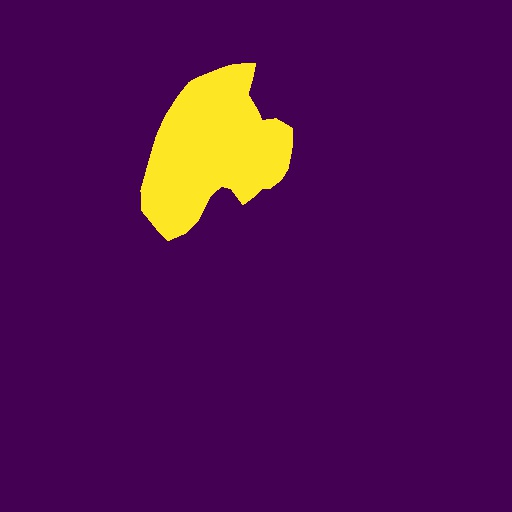Gliomia_tumour: (140, 63, 293, 241)
